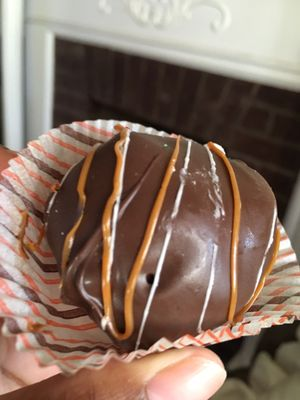salad: (19, 0, 300, 91)
